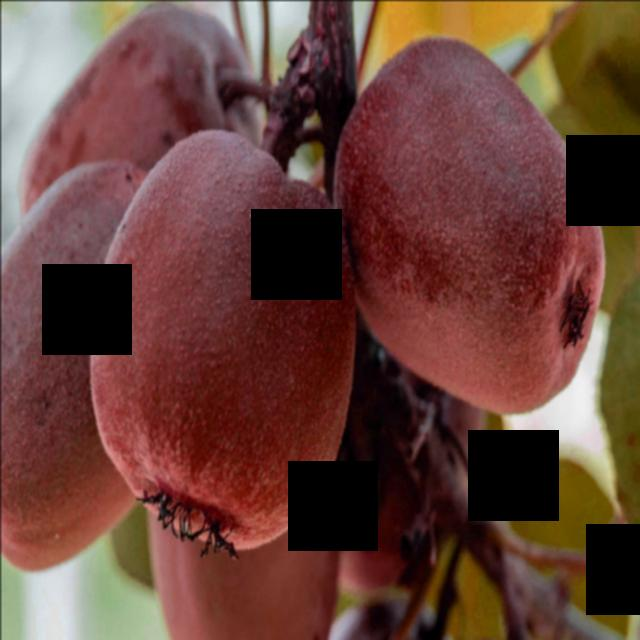kiwi: (83, 125, 369, 567), (332, 26, 612, 430), (2, 148, 173, 586), (23, 1, 281, 211), (142, 433, 356, 640), (335, 453, 461, 606)
